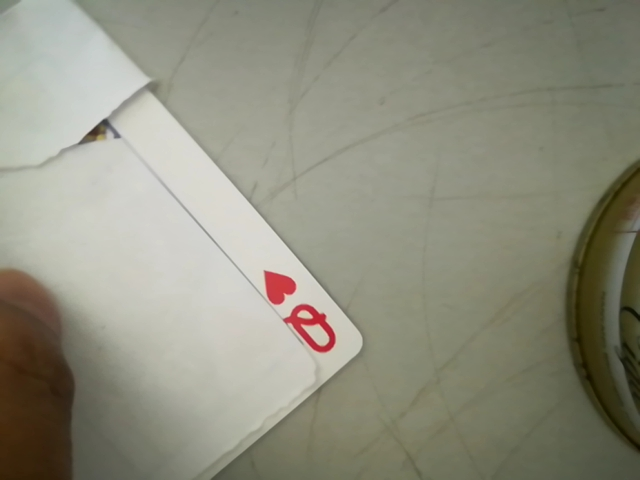hx q: (256, 262, 349, 365)
